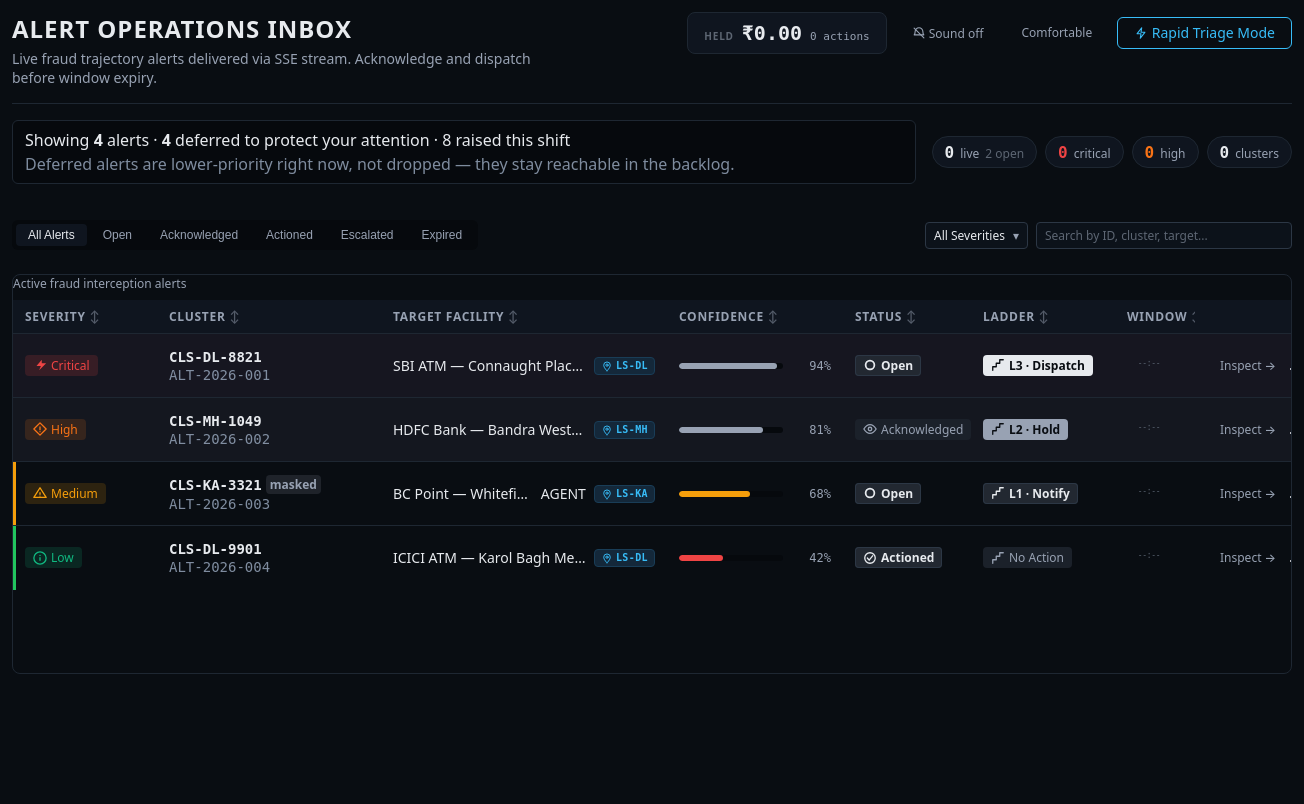
Test: AlertsInbox › toggles rapid triage review queue
Expected: the text "ALT-2026-001" is shown, [169,366,270,382]
Click the button "Rapid Triage Mode". click: click(1205, 33)
box: [1117,17,1292,49]
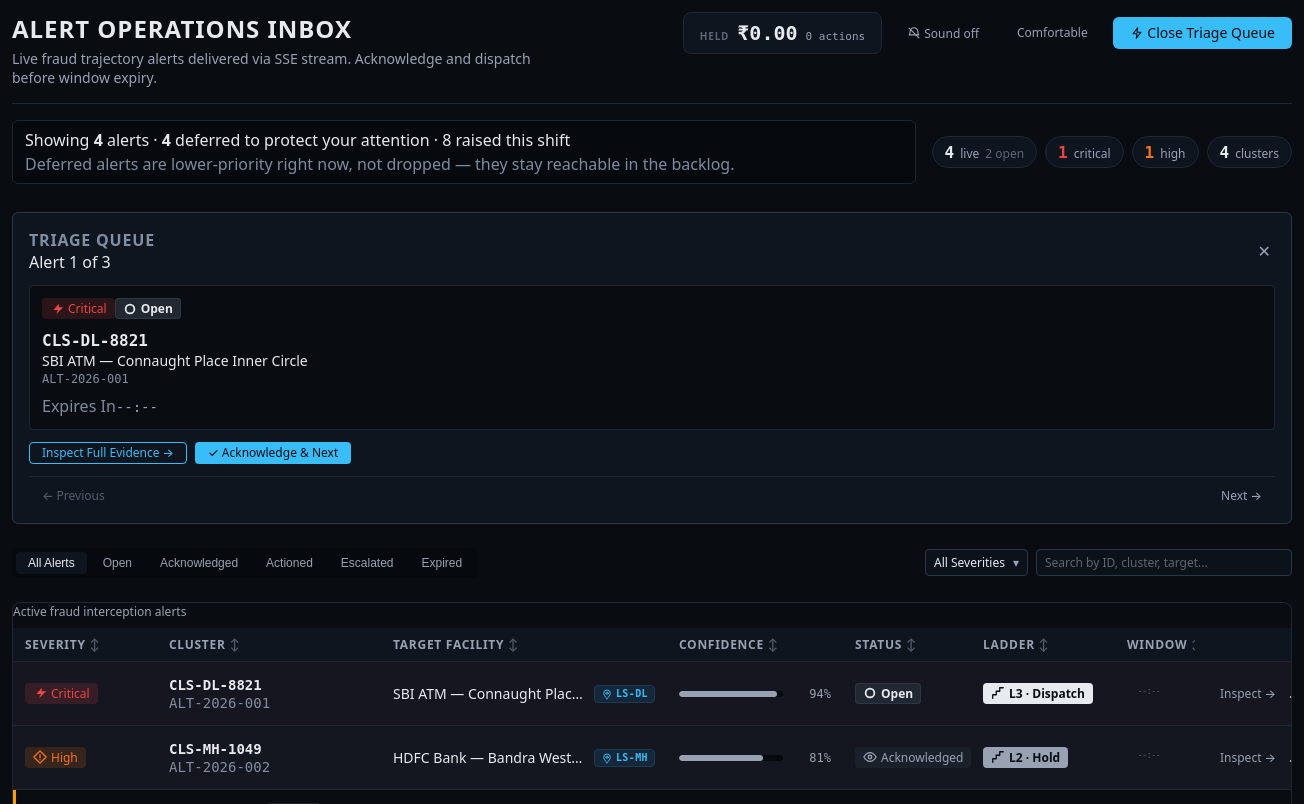
Expected: the element named "Rapid triage queue" is shown, [29,229,1275,506]
Expected: the text "Alert 1 of 3" is shown, [29,251,111,273]
